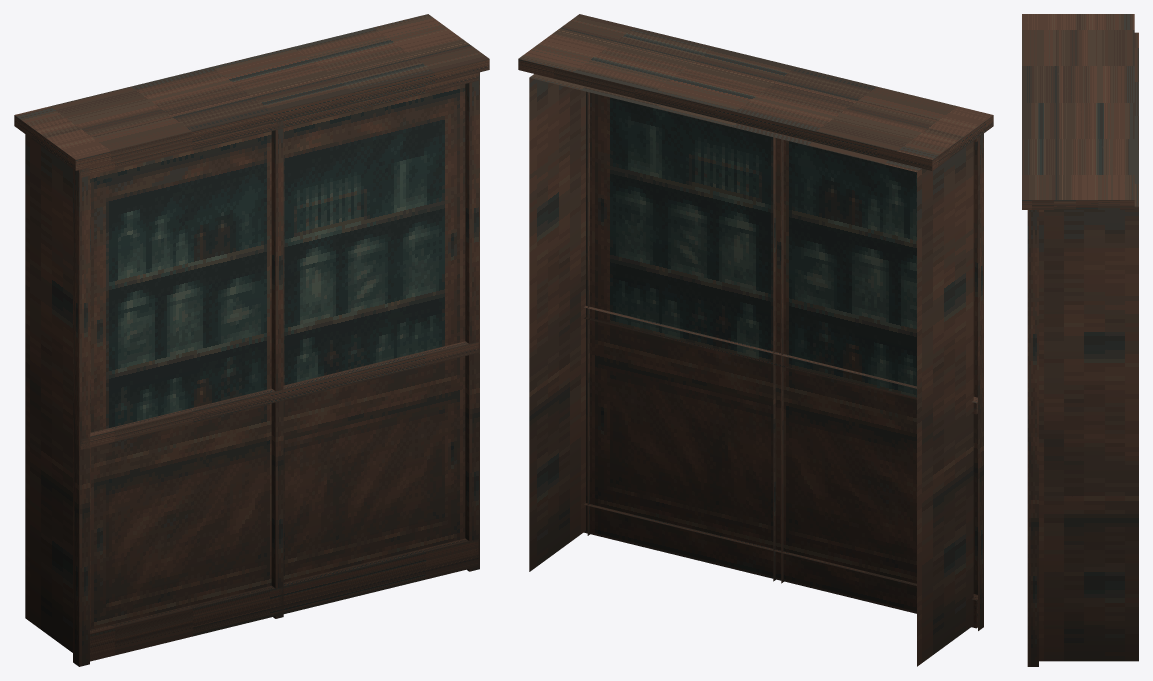
Rendered from prop_shelf_lab-3.glb.
3 views of the same model, side by side, from view 1: azimuth 30°, elevation 25°; view 2: azimuth 150°, elevation 25°; view 3: azimuth 270°, elevation 25° (orthographic). The views are drawn at different scales.
Parts seen in each view (by area): view 1: prop_shelf_lab-3; view 2: prop_shelf_lab-3; view 3: prop_shelf_lab-3.
Part boxes in pixels (x1=…): prop_shelf_lab-3: x1=14, y1=14, x2=489, y2=666; prop_shelf_lab-3: x1=518, y1=14, x2=993, y2=666; prop_shelf_lab-3: x1=1022, y1=14, x2=1138, y2=666.
Bounding box in the file's own units: 1.56 × 1.84 × 0.415.
Materials: 1 (1 with a texture image).
